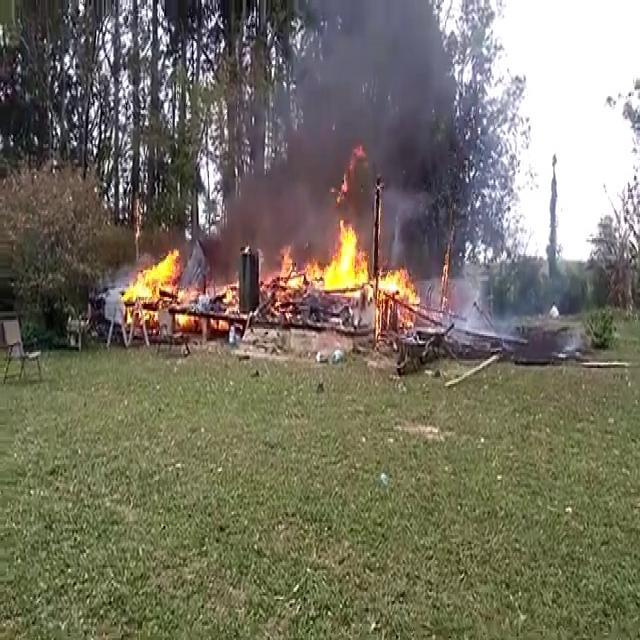Fire: (123, 247, 199, 327), (300, 220, 365, 292), (377, 266, 420, 308)
Smoke: (115, 7, 530, 350)
